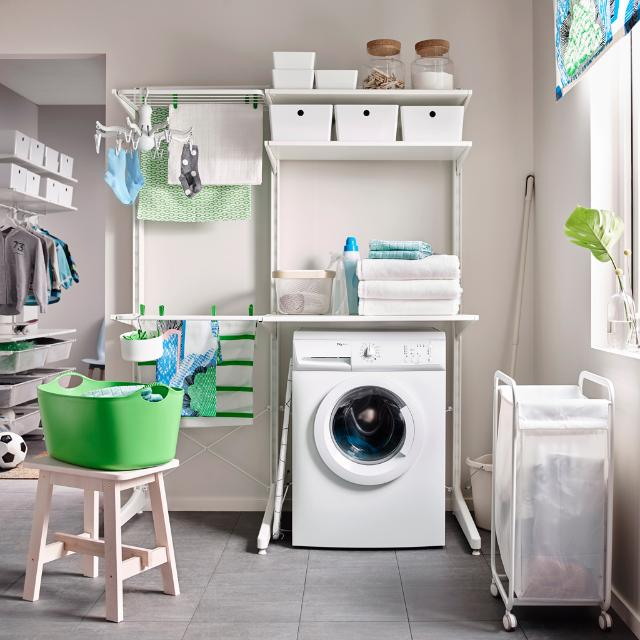curtain: (555, 0, 640, 99), (100, 480, 102, 483)
stool: (22, 456, 180, 622)
